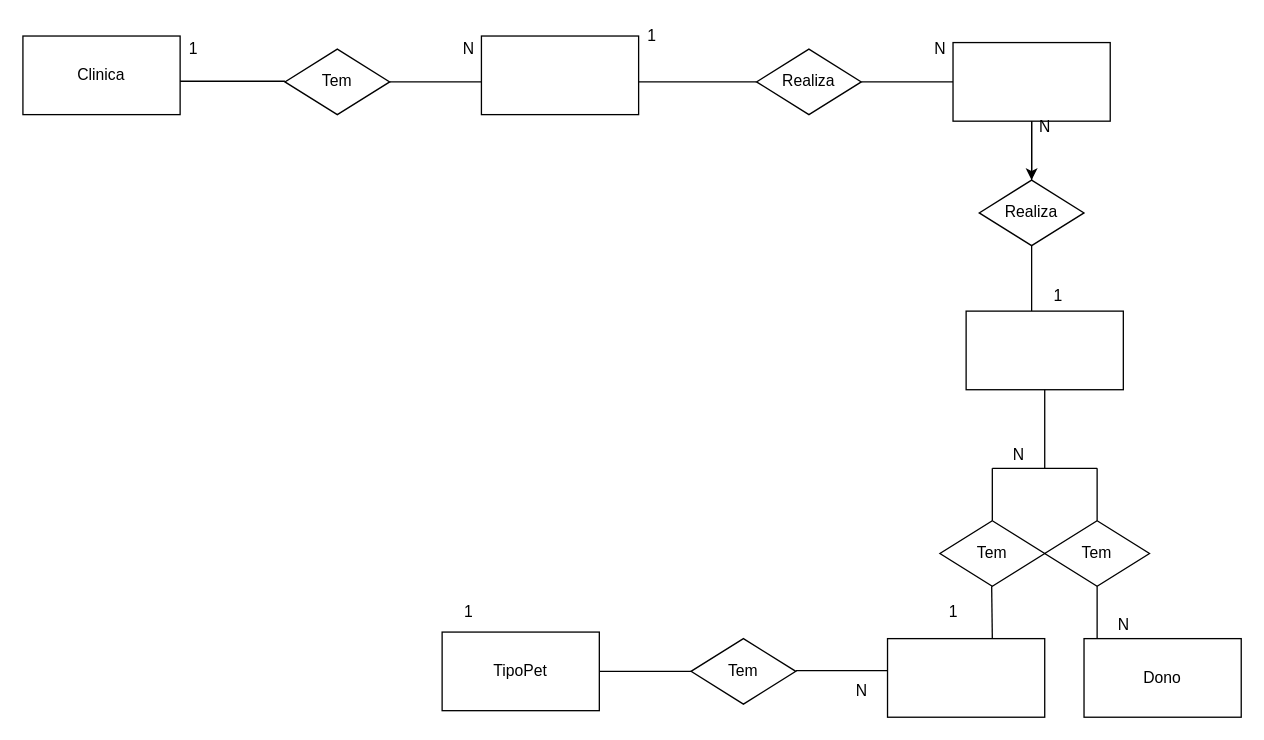
This 1264x740 diagram has some shape labels left out. Each missing label, with the centre of its shape:
"Atendimento" belongs at (x=1031, y=81).
"Pet" belongs at (x=1044, y=350).
"Raca" belongs at (x=965, y=677).
"Veterinario" belongs at (x=559, y=75).
